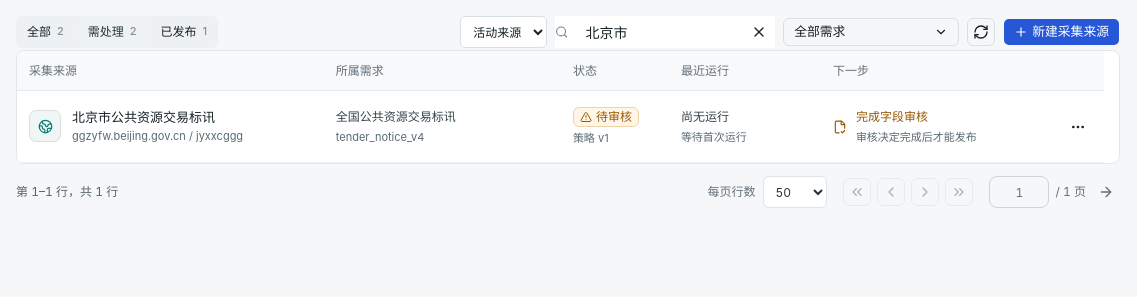
Test: CollectorsPage operational list › searches sources and clears only the search, preserving the selected view
Click the button named "清空搜索": (759, 32) [745,18,773,46]
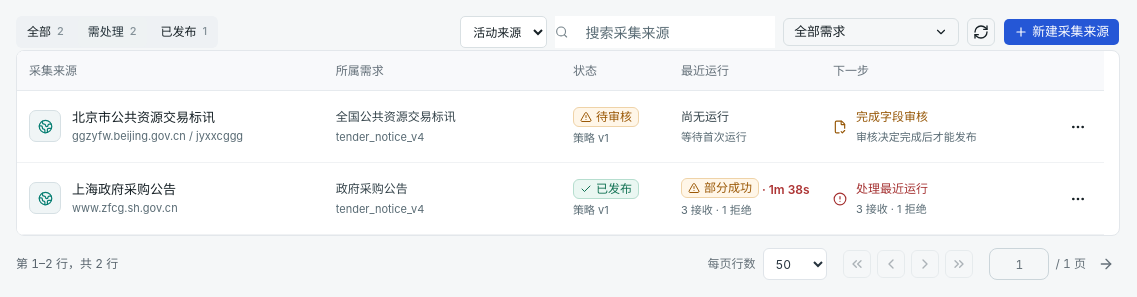
Expected: the field labelled "搜索采集来源" is empty, [576,16,775,48]
